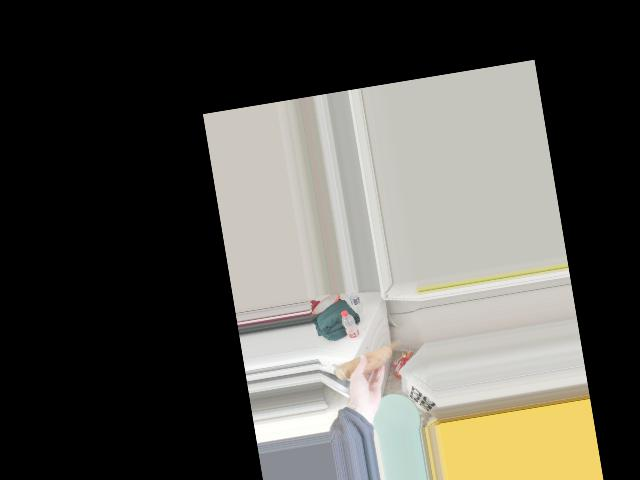sweet_potato: (334, 337, 403, 383)
